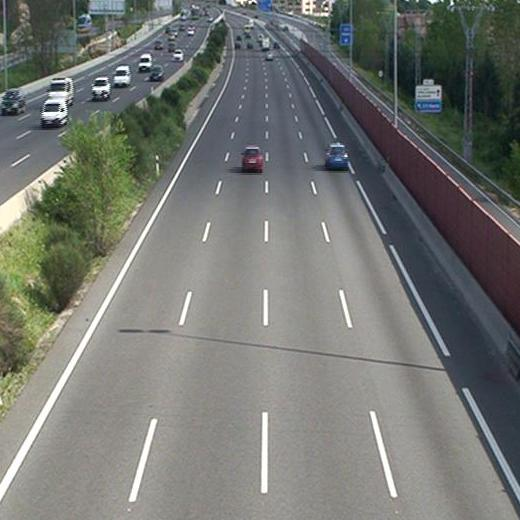car: (323, 141, 350, 171), (241, 147, 264, 173), (265, 50, 274, 62)
